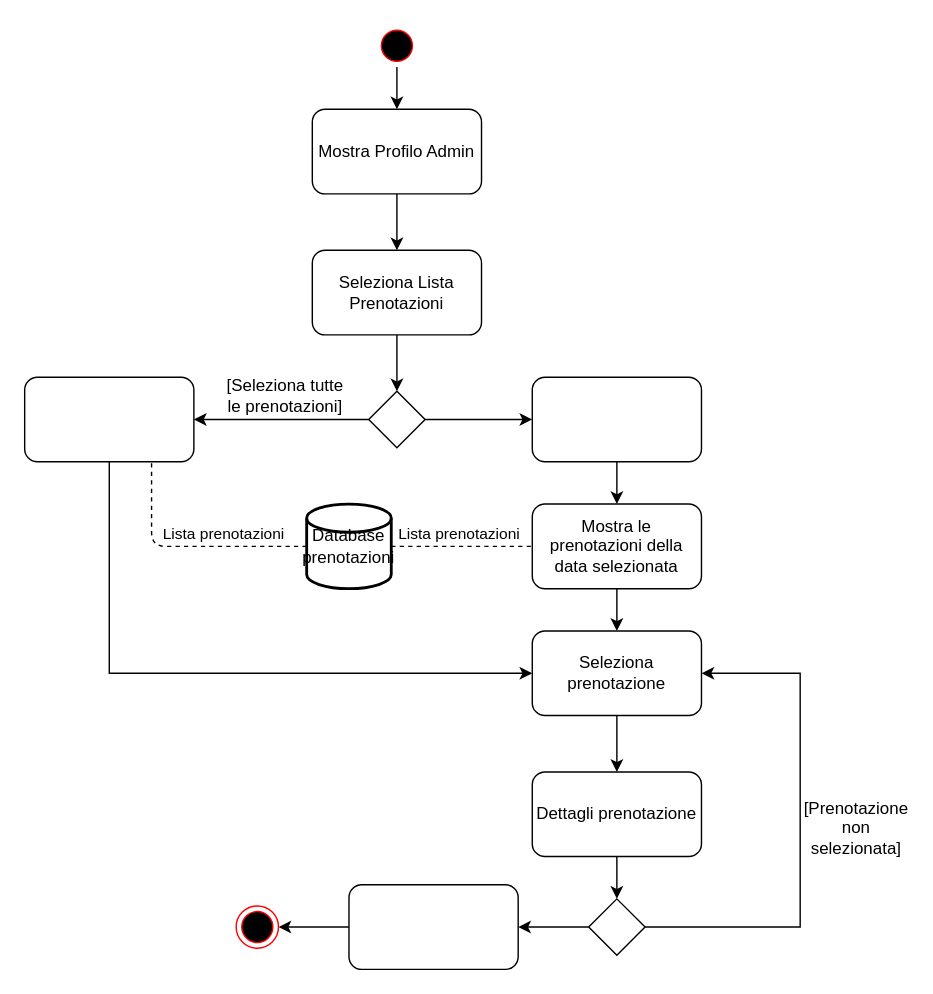
Image size: 933x994. Some labels were removed from this diagram. The centre of each missing label's shape, as x and y in pixels:
"Mostra dettagli prenotazione" belongs at pixel 433 926.
"Mostra tutte le prenotazioni" belongs at pixel 108 419.
"Seleziona data" belongs at pixel 616 419.
